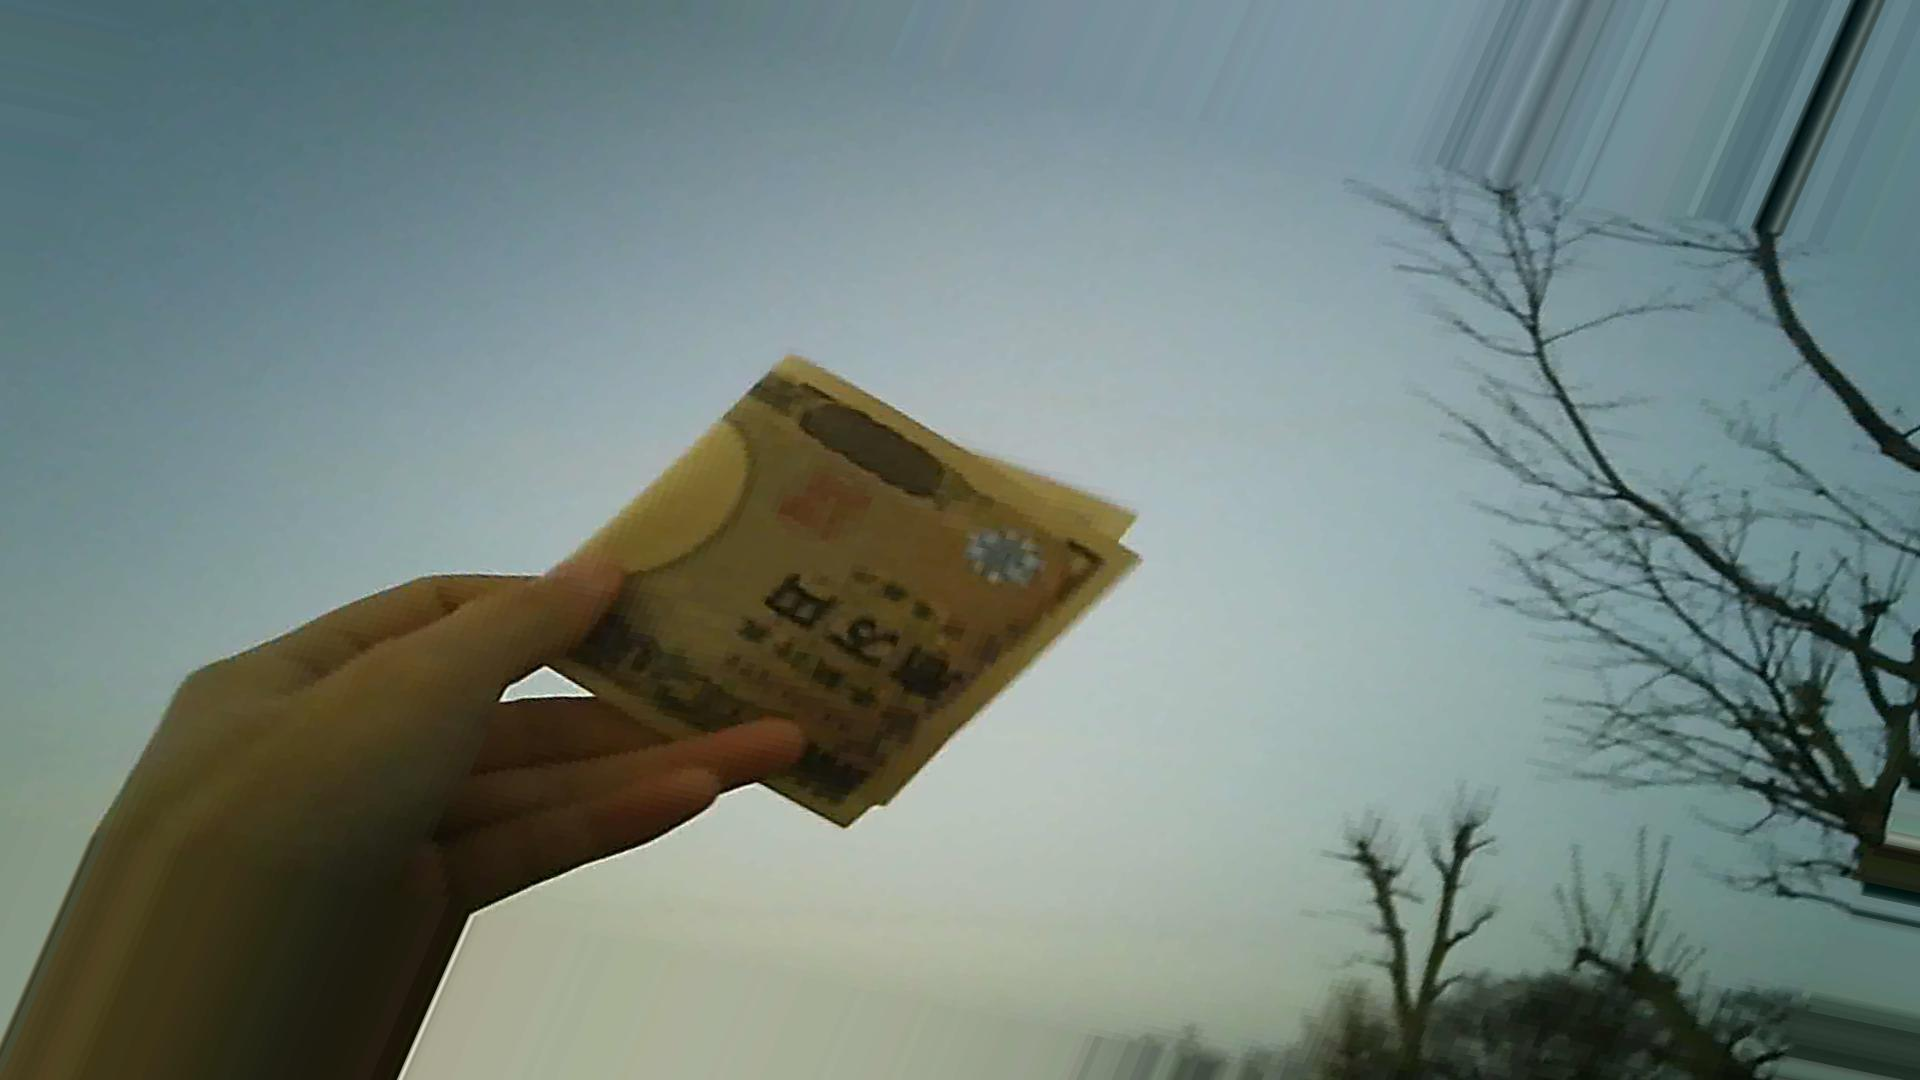10,000 Yen: (500, 345, 1134, 855)
